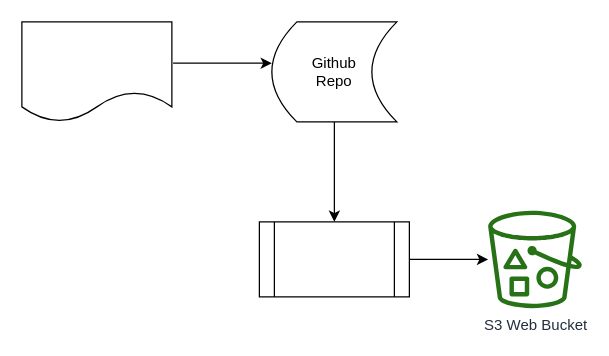
The diagram is 609 pixels wide and 356 high, and some of its shapes have lost their labels. The centre of each missing label's shape, as x and y in pixels:
New post in Markdown: (96,71)
Travis CI Pipeline: (333,259)
